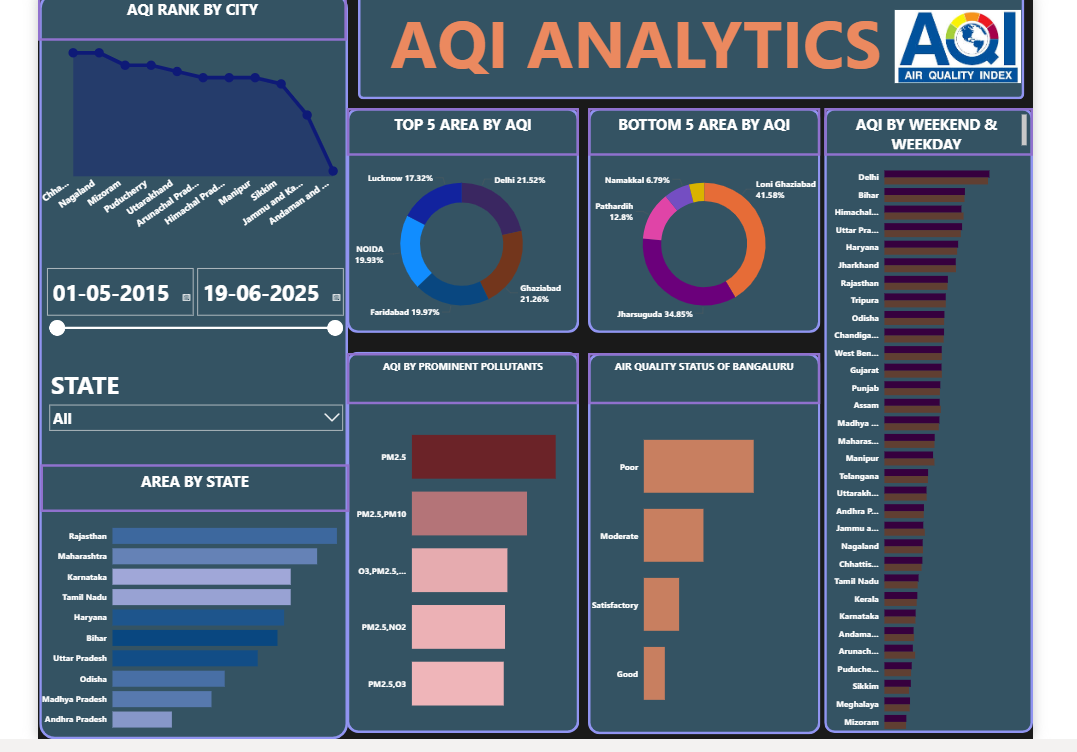

The dashboard page shown, as its layout file describes it:
{"tool":"powerbi","page":{"name":"Page 1","canvas":[1600,1200],"ordinal":0},"visuals":[{"type":"shape","box":[1264.8,185,335.8,1005.4],"z":0},{"type":"shape","box":[2,0,496.7,1200.4],"z":1000},{"type":"shape","box":[496.7,185,374,361.9],"z":2000},{"type":"shape","box":[884.7,185,374,361.9],"z":3000},{"type":"shape","box":[496.7,577.1,374,613.3],"z":4000},{"type":"shape","box":[884.7,579.1,374,613.3],"z":5000},{"type":"donutChart","title":" AQI by Area","fields":{"Category":["day-wise-state-wise-air-quality-index-aqi-of-major-cities-and-towns-in-india.area"],"Y":["day-wise-state-wise-air-quality-index-aqi-of-major-cities-and-towns-in-india.avr aqi"]},"box":[496.7,261.4,370,285.5],"z":7000},{"type":"donutChart","fields":{"Category":["day-wise-state-wise-air-quality-index-aqi-of-major-cities-and-towns-in-india.area"],"Y":["day-wise-state-wise-air-quality-index-aqi-of-major-cities-and-towns-in-india.avr aqi"]},"box":[884.7,261.4,374,285.5],"z":8000},{"type":"textbox","box":[496.7,185,374,76.4],"z":9000},{"type":"textbox","box":[884.7,185,374,76.4],"z":10000},{"type":"clusteredBarChart","fields":{"Category":["day-wise-state-wise-air-quality-index-aqi-of-major-cities-and-towns-in-india.prominent_pollutants"],"Y":["day-wise-state-wise-air-quality-index-aqi-of-major-cities-and-towns-in-india.avr aqi"]},"box":[496.7,661.5,370,528.8],"z":11000},{"type":"textbox","box":[496.7,579.1,374,82.4],"z":12000},{"type":"barChart","fields":{"Category":["day-wise-state-wise-air-quality-index-aqi-of-major-cities-and-towns-in-india.air_quality_status"],"Y":["day-wise-state-wise-air-quality-index-aqi-of-major-cities-and-towns-in-india.avr aqi"],"Series":["day-wise-state-wise-air-quality-index-aqi-of-major-cities-and-towns-in-india.area"]},"box":[884.7,661.5,374,528.8],"z":13000},{"type":"textbox","box":[884.7,579.1,374,82.4],"z":14000},{"type":"areaChart","fields":{"Category":["day-wise-state-wise-air-quality-index-aqi-of-major-cities-and-towns-in-india.state"],"Y":["day-wise-state-wise-air-quality-index-aqi-of-major-cities-and-towns-in-india.AQIRank"]},"box":[0,72.4,496.7,317.7],"z":15000},{"type":"barChart","fields":{"Category":["day-wise-state-wise-air-quality-index-aqi-of-major-cities-and-towns-in-india.state"],"Y":["day-wise-state-wise-air-quality-index-aqi-of-major-cities-and-towns-in-india.COUNT AREA"]},"box":[0,834.5,496.7,366],"z":16000},{"type":"textbox","box":[0,0,496.7,76.4],"z":17000},{"type":"textbox","box":[4,758,496.7,76.4],"z":18000},{"type":"slicer","fields":{"Values":["date.Date"]},"box":[2,432.3,496.7,128.7],"z":19000},{"type":"slicer","fields":{"Values":["day-wise-state-wise-air-quality-index-aqi-of-major-cities-and-towns-in-india.state"]},"box":[8,599.2,492.6,126.7],"z":20000},{"type":"clusteredBarChart","fields":{"Category":["day-wise-state-wise-air-quality-index-aqi-of-major-cities-and-towns-in-india.state"],"Y":["day-wise-state-wise-air-quality-index-aqi-of-major-cities-and-towns-in-india.avr aqi"],"Series":["date.IsWeekend"]},"box":[1264.8,261.4,335.8,939],"z":21000},{"type":"shape","box":[514.7,0,1071.7,170.9],"z":22000},{"type":"textbox","box":[1264.8,185,335.8,76.4],"z":23000},{"type":"textbox","box":[514.7,0,894.8,170.9],"z":23001},{"type":"image","box":[1373.3,16.1,213.1,140.8],"z":23002}]}

Visuals, with their boxes in screenshot pixels (x1, y1, x2, y2):
shape: crop(821, 109, 1028, 730)
shape: crop(41, 0, 347, 736)
shape: crop(346, 109, 577, 332)
shape: crop(586, 109, 817, 332)
shape: crop(346, 351, 577, 730)
shape: crop(586, 352, 817, 731)
" AQI by Area" donutChart: crop(346, 156, 575, 332)
donutChart - day-wise-state-wise-air-quality-index-aqi-of-major-cities-and-towns-in-india.area x day-wise-state-wise-air-quality-index-aqi-of-major-cities-and-towns-in-india.avr aqi: crop(586, 156, 817, 332)
textbox: crop(346, 109, 577, 156)
textbox: crop(586, 109, 817, 156)
clusteredBarChart - day-wise-state-wise-air-quality-index-aqi-of-major-cities-and-towns-in-india.prominent_pollutants x day-wise-state-wise-air-quality-index-aqi-of-major-cities-and-towns-in-india.avr aqi: crop(346, 403, 575, 730)
textbox: crop(346, 352, 577, 403)
barChart - day-wise-state-wise-air-quality-index-aqi-of-major-cities-and-towns-in-india.air_quality_status x day-wise-state-wise-air-quality-index-aqi-of-major-cities-and-towns-in-india.avr aqi: crop(586, 403, 817, 730)
textbox: crop(586, 352, 817, 403)
areaChart - day-wise-state-wise-air-quality-index-aqi-of-major-cities-and-towns-in-india.state x day-wise-state-wise-air-quality-index-aqi-of-major-cities-and-towns-in-india.AQIRank: crop(39, 39, 346, 235)
barChart - day-wise-state-wise-air-quality-index-aqi-of-major-cities-and-towns-in-india.state x day-wise-state-wise-air-quality-index-aqi-of-major-cities-and-towns-in-india.COUNT AREA: crop(39, 510, 346, 736)
textbox: crop(39, 0, 346, 42)
textbox: crop(42, 463, 349, 510)
slicer - date.Date: crop(41, 261, 347, 341)
slicer - day-wise-state-wise-air-quality-index-aqi-of-major-cities-and-towns-in-india.state: crop(44, 365, 349, 443)
clusteredBarChart - day-wise-state-wise-air-quality-index-aqi-of-major-cities-and-towns-in-india.state x day-wise-state-wise-air-quality-index-aqi-of-major-cities-and-towns-in-india.avr aqi: crop(821, 156, 1028, 736)
shape: crop(357, 0, 1019, 100)
textbox: crop(821, 109, 1028, 156)
textbox: crop(357, 0, 910, 100)
image: crop(888, 4, 1019, 91)
